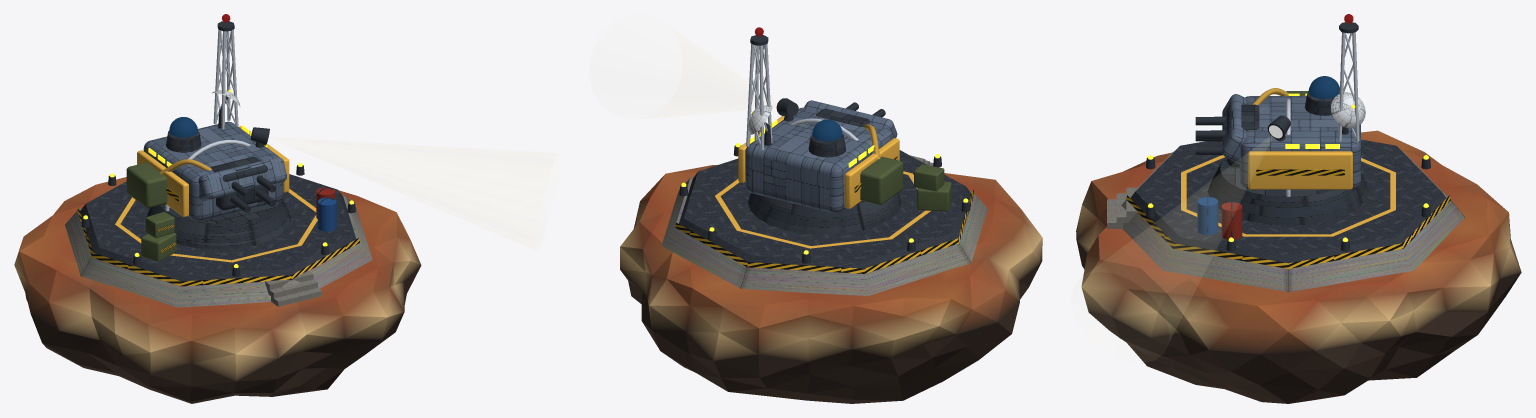
Rendered from autocannon-L100.glb.
The picture shows the model from 3 angles, left to right: view 1: azimuth 30°, elevation 25°; view 2: azimuth 150°, elevation 25°; view 3: azimuth 270°, elevation 25°; orthographic projection. The views are drawn at different scales.
Visible parts, largest first — view 1: object 1, anim:yaw, object 4, object 2, object 35, object 3, anim:pitch, object 5, object 25, object 32, object 27, object 22; view 2: object 1, anim:yaw, object 4, object 2, object 35, object 3, object 5, object 25, object 27, anim:pitch, anim:rot; view 3: object 1, object 4, anim:yaw, object 2, object 35, object 3, object 5, anim:rot, object 32, object 29, anim:pitch.
Boxes of the visible parts, x1=… form: object 1: x1=14, y1=177, x2=421, y2=403; anim:yaw: x1=126, y1=14, x2=289, y2=221; object 4: x1=80, y1=174, x2=356, y2=281; object 2: x1=65, y1=194, x2=372, y2=307; object 35: x1=147, y1=198, x2=290, y2=249; object 3: x1=77, y1=207, x2=359, y2=286; anim:pitch: x1=210, y1=156, x2=268, y2=210; object 5: x1=115, y1=189, x2=317, y2=262; object 25: x1=141, y1=232, x2=176, y2=261; object 32: x1=318, y1=197, x2=336, y2=231; object 27: x1=145, y1=211, x2=174, y2=238; object 22: x1=271, y1=288, x2=322, y2=306; object 1: x1=620, y1=165, x2=1042, y2=403; anim:yaw: x1=738, y1=27, x2=903, y2=213; object 4: x1=679, y1=150, x2=971, y2=268; object 2: x1=661, y1=176, x2=987, y2=295; object 35: x1=748, y1=192, x2=901, y2=234; object 3: x1=675, y1=189, x2=974, y2=273; object 5: x1=715, y1=171, x2=930, y2=248; object 25: x1=917, y1=181, x2=951, y2=211; object 27: x1=914, y1=164, x2=944, y2=191; anim:pitch: x1=816, y1=108, x2=869, y2=126; anim:rot: x1=748, y1=105, x2=772, y2=134; object 1: x1=1076, y1=130, x2=1521, y2=403; object 4: x1=1130, y1=139, x2=1446, y2=263; anim:yaw: x1=1222, y1=14, x2=1360, y2=190; object 2: x1=1121, y1=151, x2=1464, y2=291; object 35: x1=1208, y1=157, x2=1368, y2=225; object 3: x1=1126, y1=195, x2=1450, y2=268; object 5: x1=1181, y1=155, x2=1395, y2=236; anim:rot: x1=1330, y1=92, x2=1365, y2=128; object 32: x1=1197, y1=197, x2=1218, y2=234; object 29: x1=1221, y1=202, x2=1242, y2=239; anim:pitch: x1=1227, y1=104, x2=1259, y2=167.
Size of the model in its own units: 7.23 by 4.86 by 5.59.
21 materials, 7 textured.
